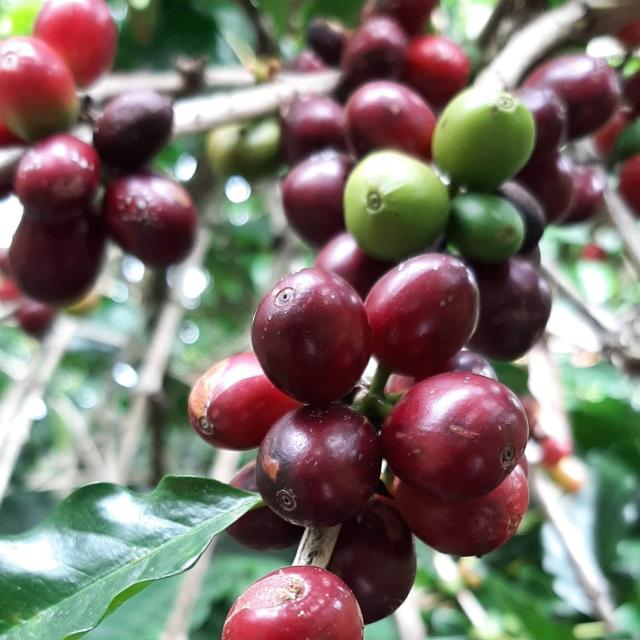green: (344, 149, 451, 261), (433, 88, 536, 190), (448, 192, 526, 263)
red: (381, 373, 529, 503), (252, 267, 373, 405), (255, 403, 382, 528), (365, 253, 480, 378), (396, 467, 530, 558), (327, 496, 417, 625), (188, 353, 301, 451), (222, 567, 364, 640), (103, 171, 197, 266), (470, 257, 553, 361), (282, 147, 354, 247), (345, 79, 436, 158), (93, 89, 173, 168)
